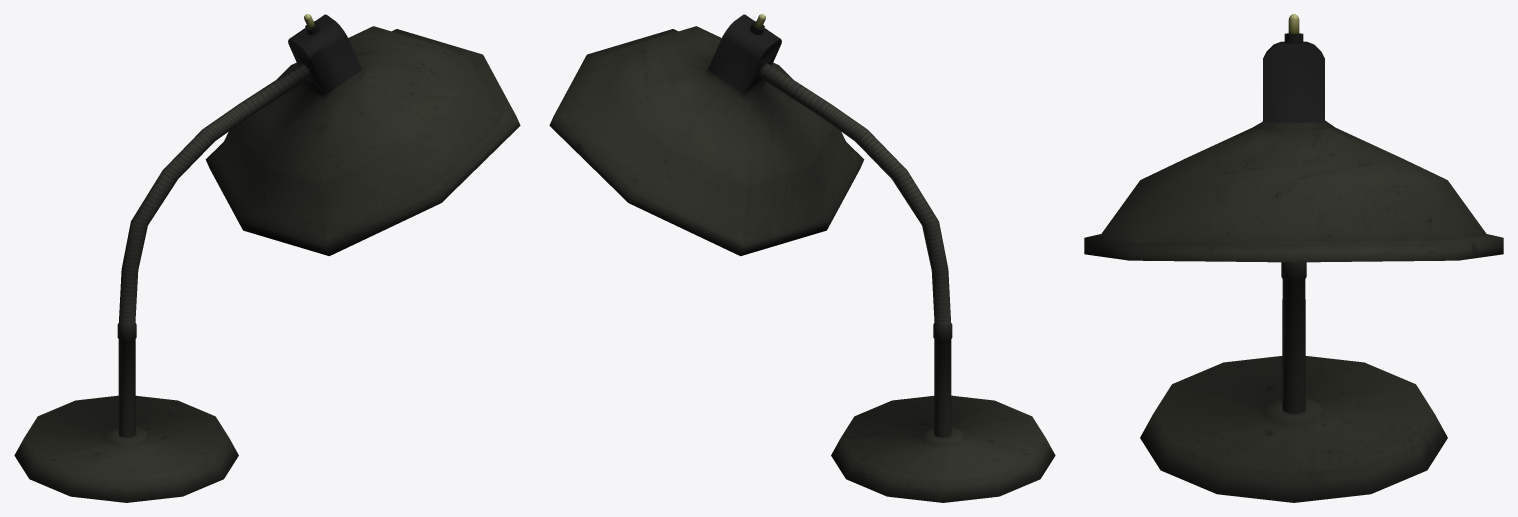
The model's file is DeskLamp.obj.
The picture shows the model from 3 angles, left to right: view 1: azimuth 30°, elevation 25°; view 2: azimuth 150°, elevation 25°; view 3: azimuth 270°, elevation 25°; orthographic projection. The views are drawn at different scales.
Parts seen in each view (by area): view 1: Cylinder; view 2: Cylinder; view 3: Cylinder.
Boxes of the visible parts, x1,y1,x2,y2 form: Cylinder: (14, 14, 520, 502); Cylinder: (549, 14, 1055, 502); Cylinder: (1084, 14, 1503, 502).
Size of the model in its own units: 1.86 by 1.54 by 1.08.
